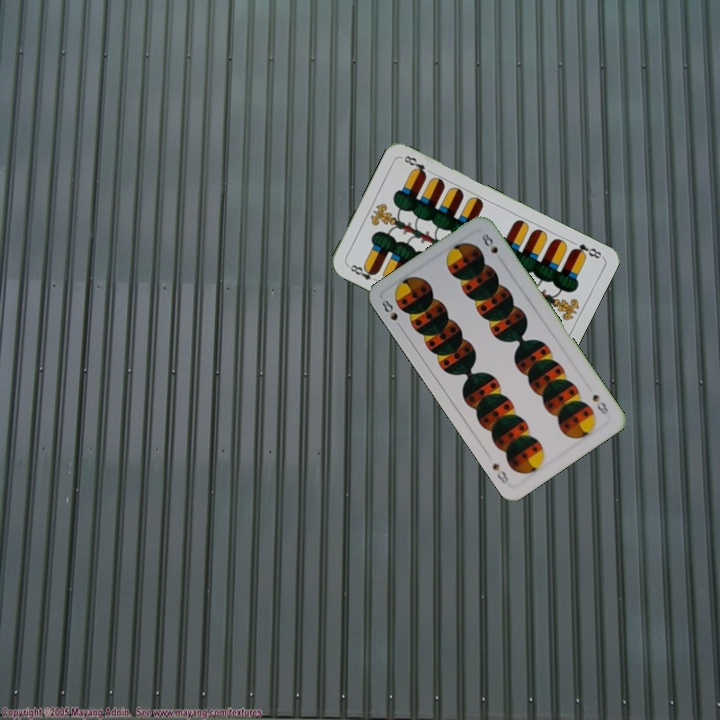E8: (344, 261, 381, 285), (567, 240, 605, 261)
S8: (377, 295, 405, 332), (588, 390, 612, 417)
